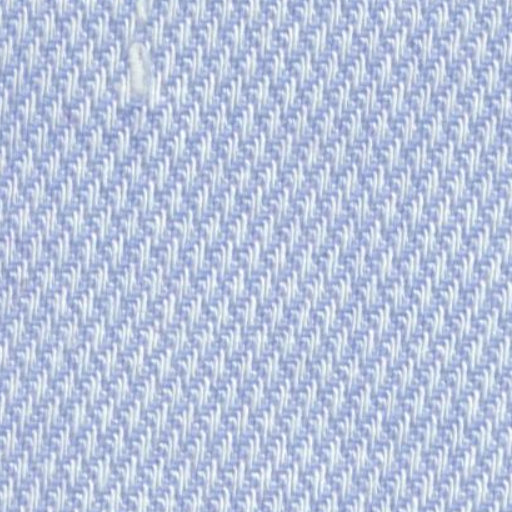DuanSha: (103, 27, 179, 115)
